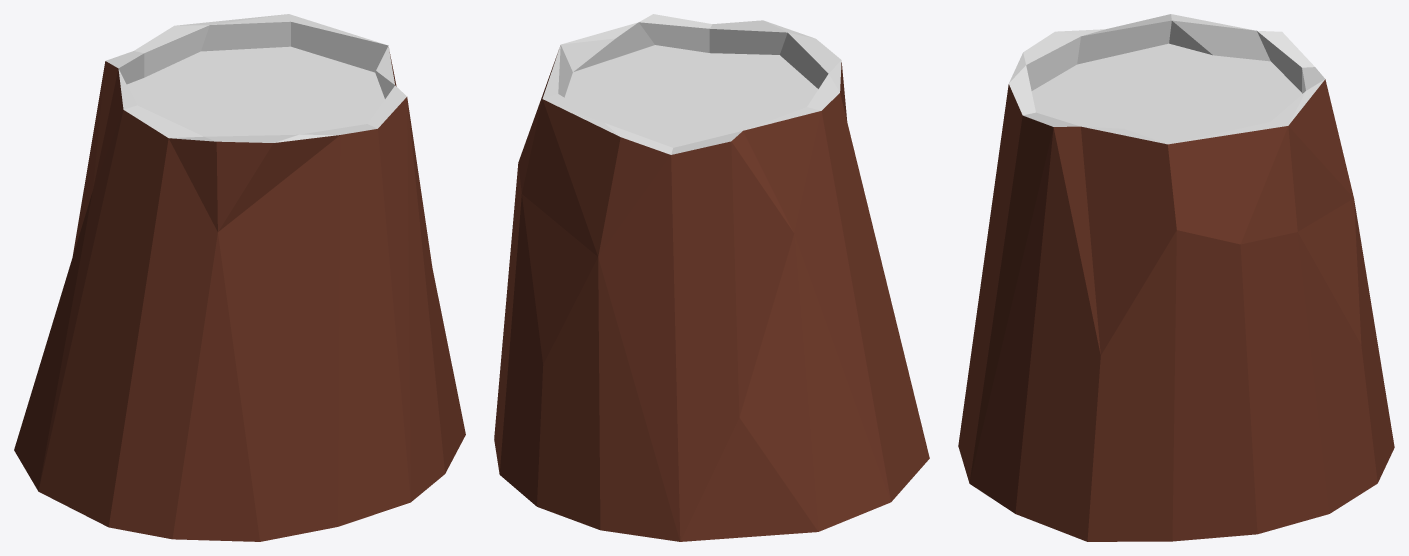
Rendered from pine_trunk_type_3_extra_LOD1.fbx.
3 views of the same model, side by side, from view 1: azimuth 30°, elevation 25°; view 2: azimuth 150°, elevation 25°; view 3: azimuth 270°, elevation 25° (orthographic). The views are drawn at different scales.
Parts seen in each view (by area): view 1: pt_type_3.001; view 2: pt_type_3.001; view 3: pt_type_3.001.
Boxes of the visible parts, x1,y1,x2,y2 form: pt_type_3.001: (14, 14, 465, 541); pt_type_3.001: (494, 14, 929, 541); pt_type_3.001: (958, 14, 1394, 541).
Size of the model in its own units: 202 by 188 by 196.
